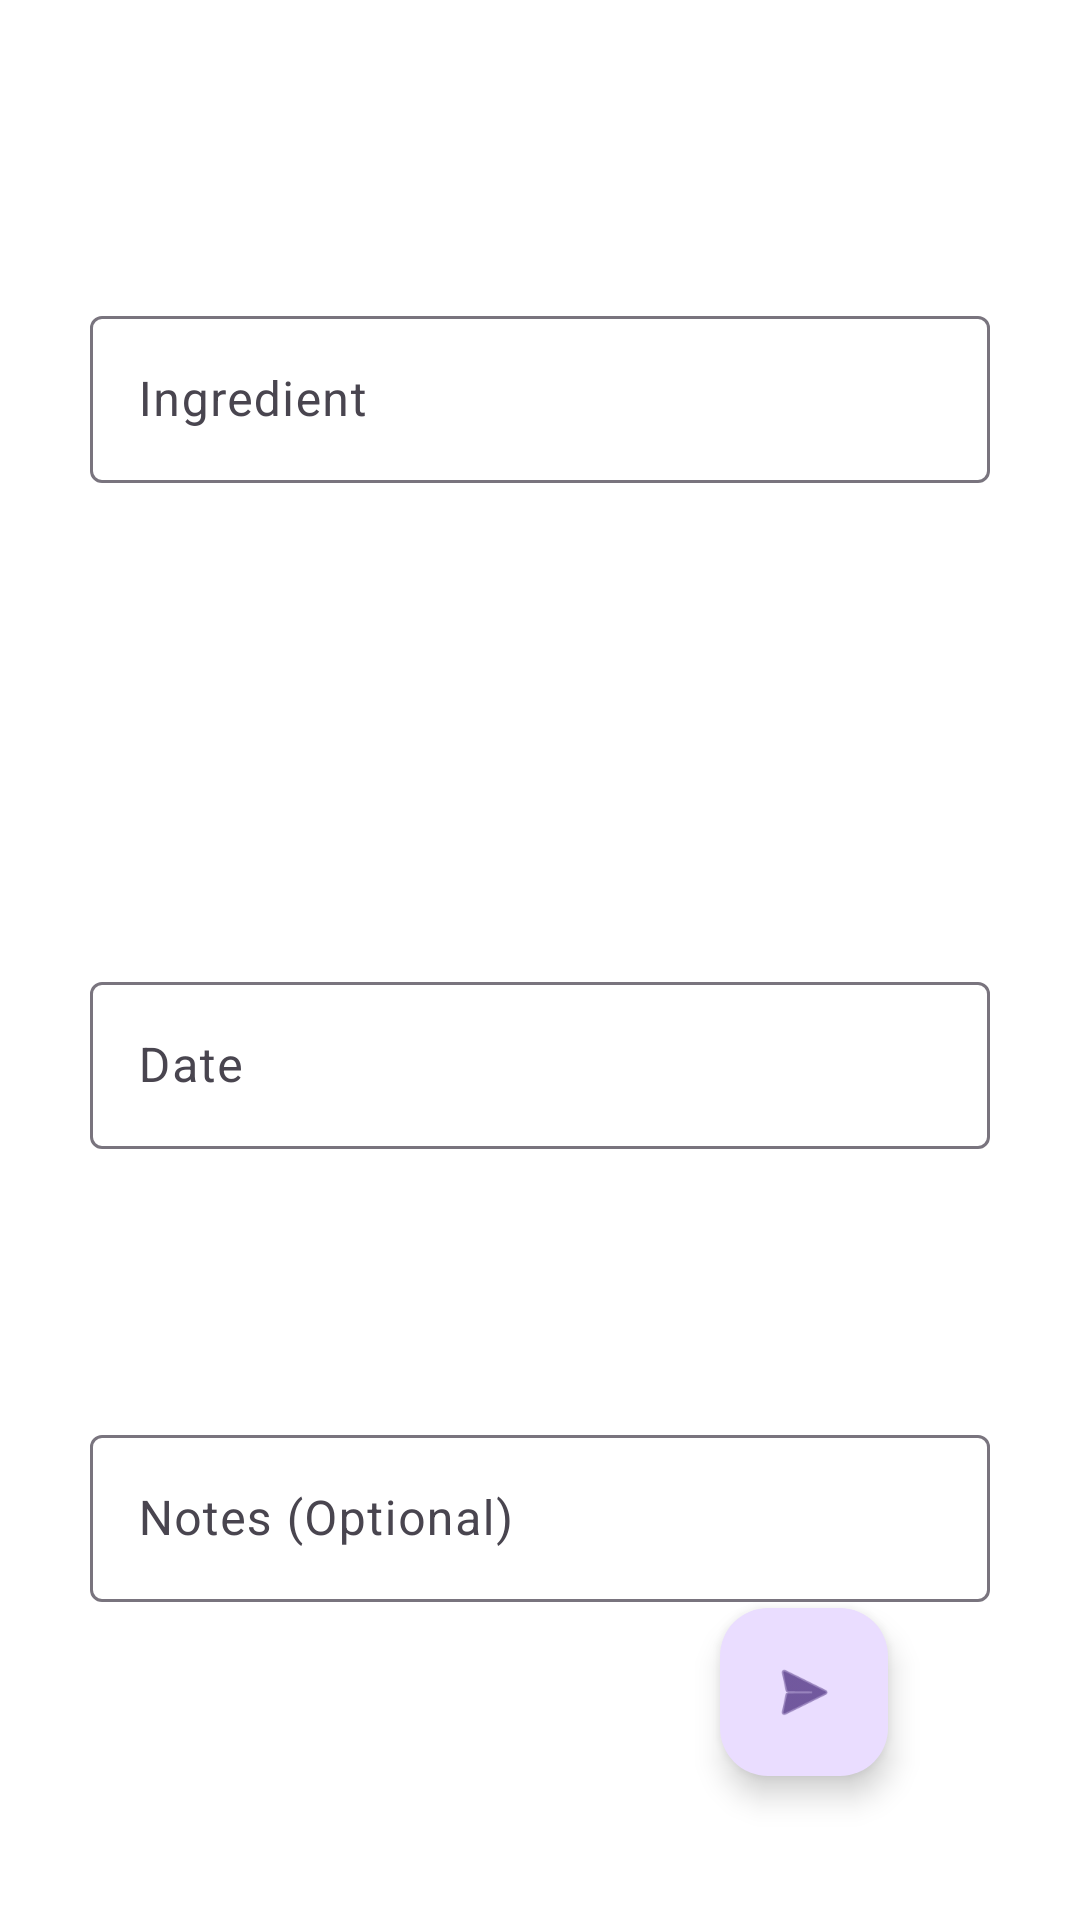

Named icons in this screenshot (1080 × 1920) and their bounding boxes, (x1, y1, x2, y2):
Submit: (720, 1608, 888, 1776)
